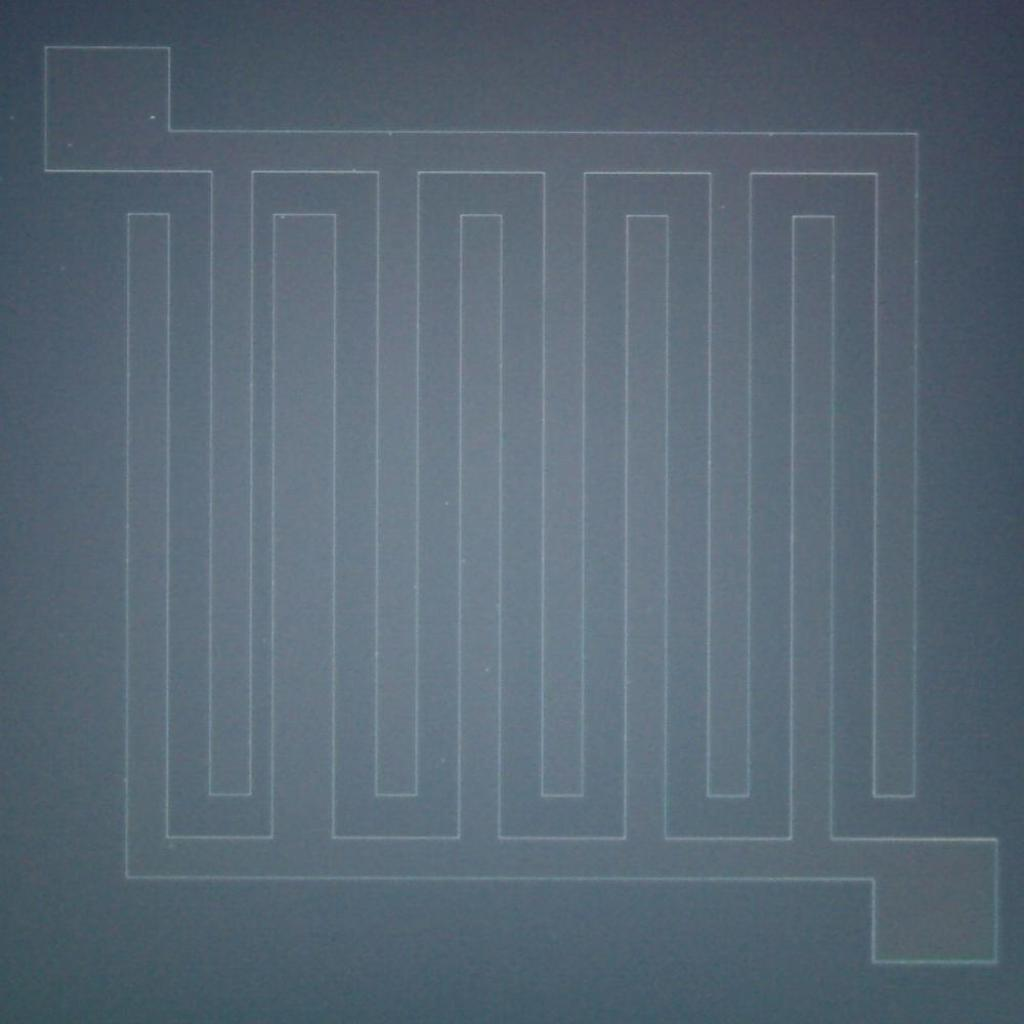dot: (720, 204, 726, 209), (68, 142, 72, 148), (151, 115, 155, 119), (10, 116, 14, 120), (388, 132, 392, 136), (352, 168, 356, 172), (280, 215, 284, 219), (444, 501, 448, 505), (412, 586, 416, 590), (485, 668, 489, 672)
